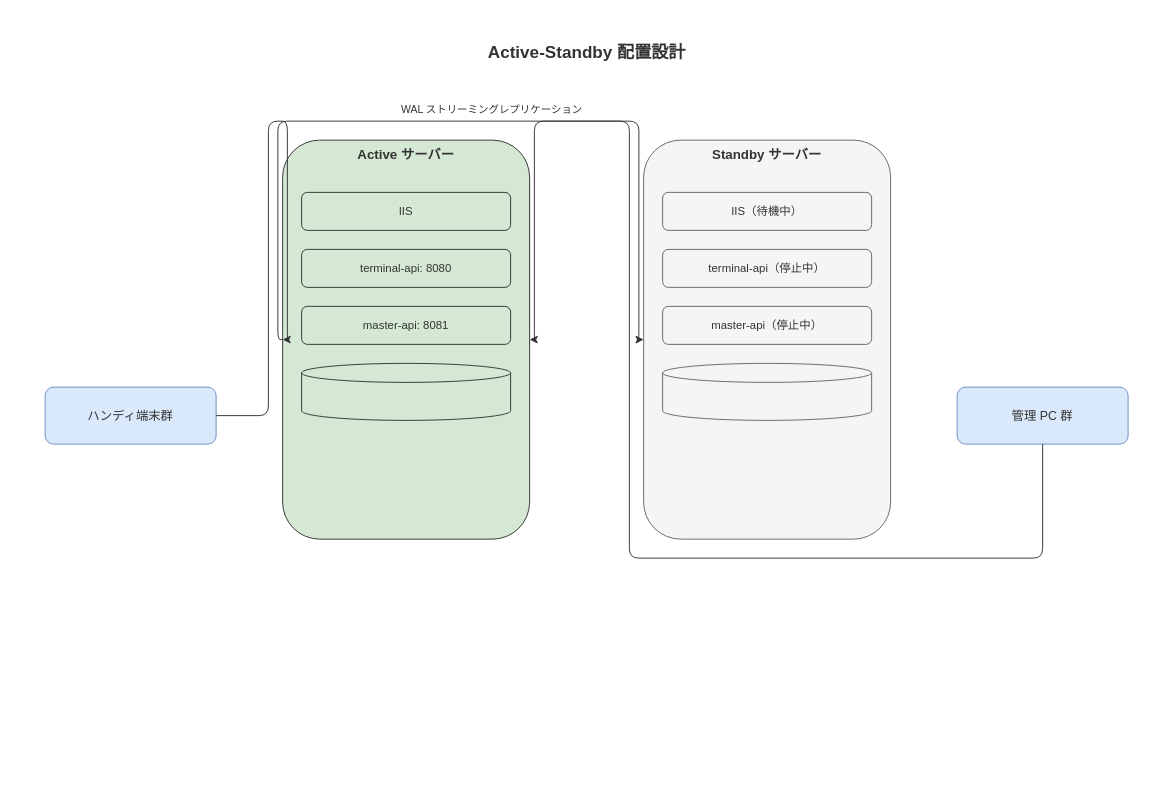
This 1172x792 diagram has some shape labels left out. The centre of each missing label's shape, as x and y in pixels:
"PostgreSQL (primary)" belongs at (x=406, y=391).
"PostgreSQL (standby)" belongs at (x=767, y=391).
